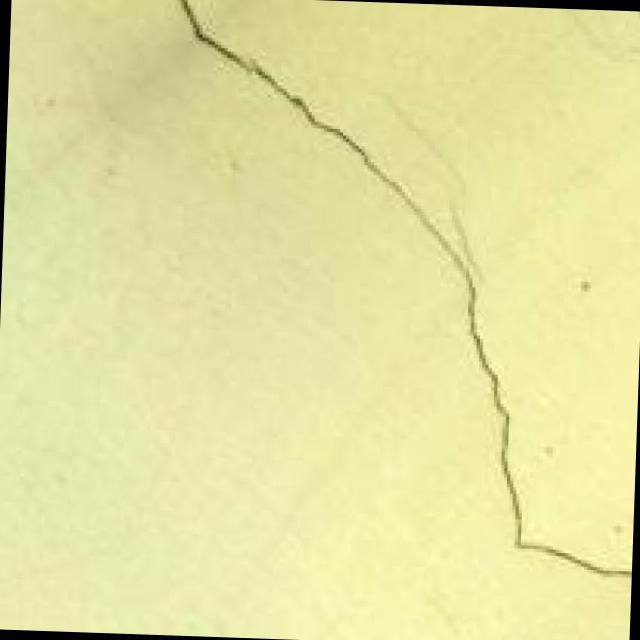crack: (119, 0, 640, 584)
